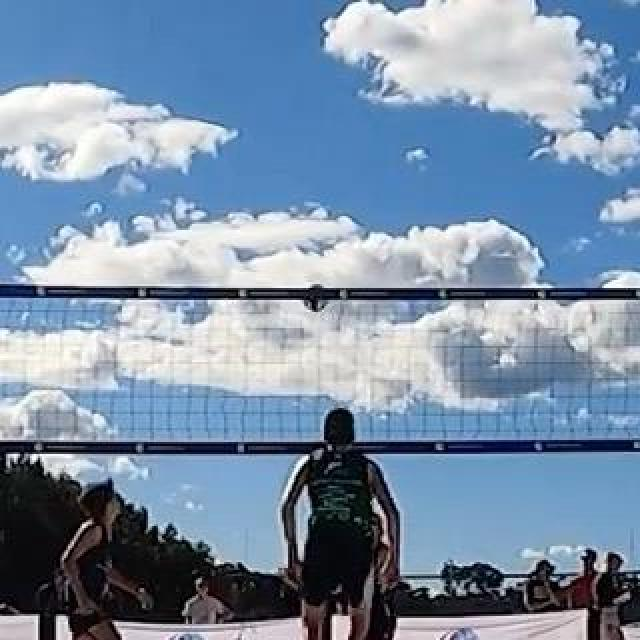volleyball: (302, 283, 330, 311)
